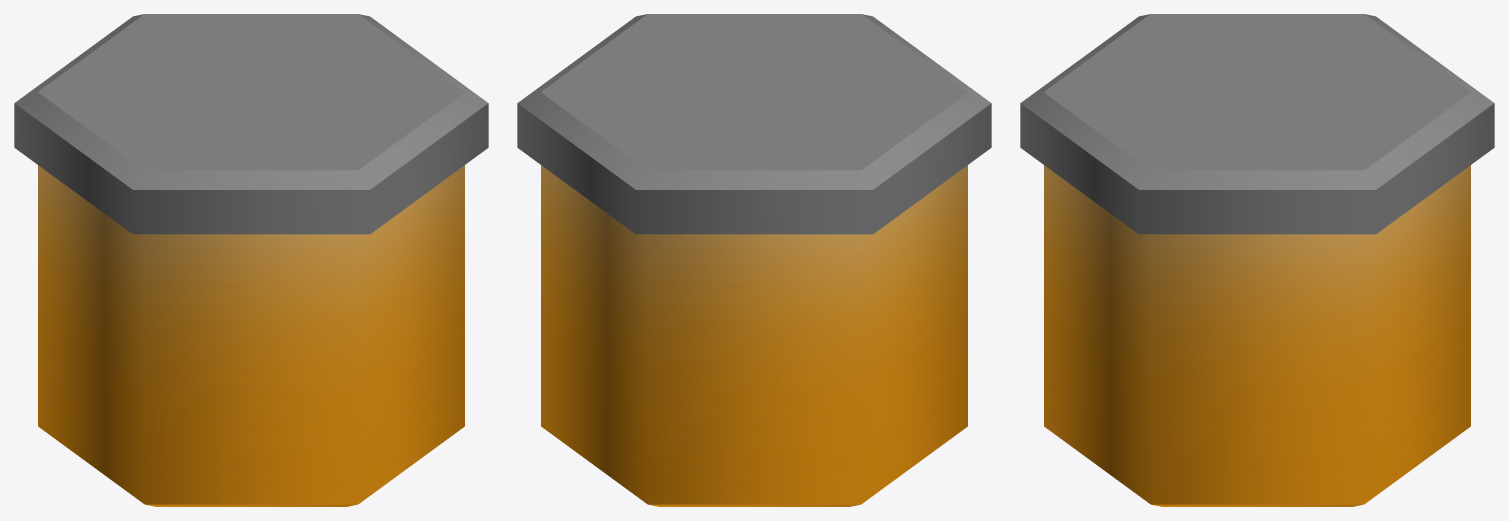
The model's file is Jar_2_G.glb.
3 renders of one model, left to right at view 1: azimuth 30°, elevation 25°; view 2: azimuth 150°, elevation 25°; view 3: azimuth 270°, elevation 25°, orthographic.
Parts seen in each view (by area): view 1: Jar_2_G; view 2: Jar_2_G; view 3: Jar_2_G.
Boxes of the visible parts, x1,y1,x2,y2 form: Jar_2_G: (14, 14, 488, 506); Jar_2_G: (517, 14, 991, 506); Jar_2_G: (1020, 14, 1494, 506).
Bounding box in the file's own units: 0.1799 × 0.1669 × 0.2077.
1 material, 1 textured.
